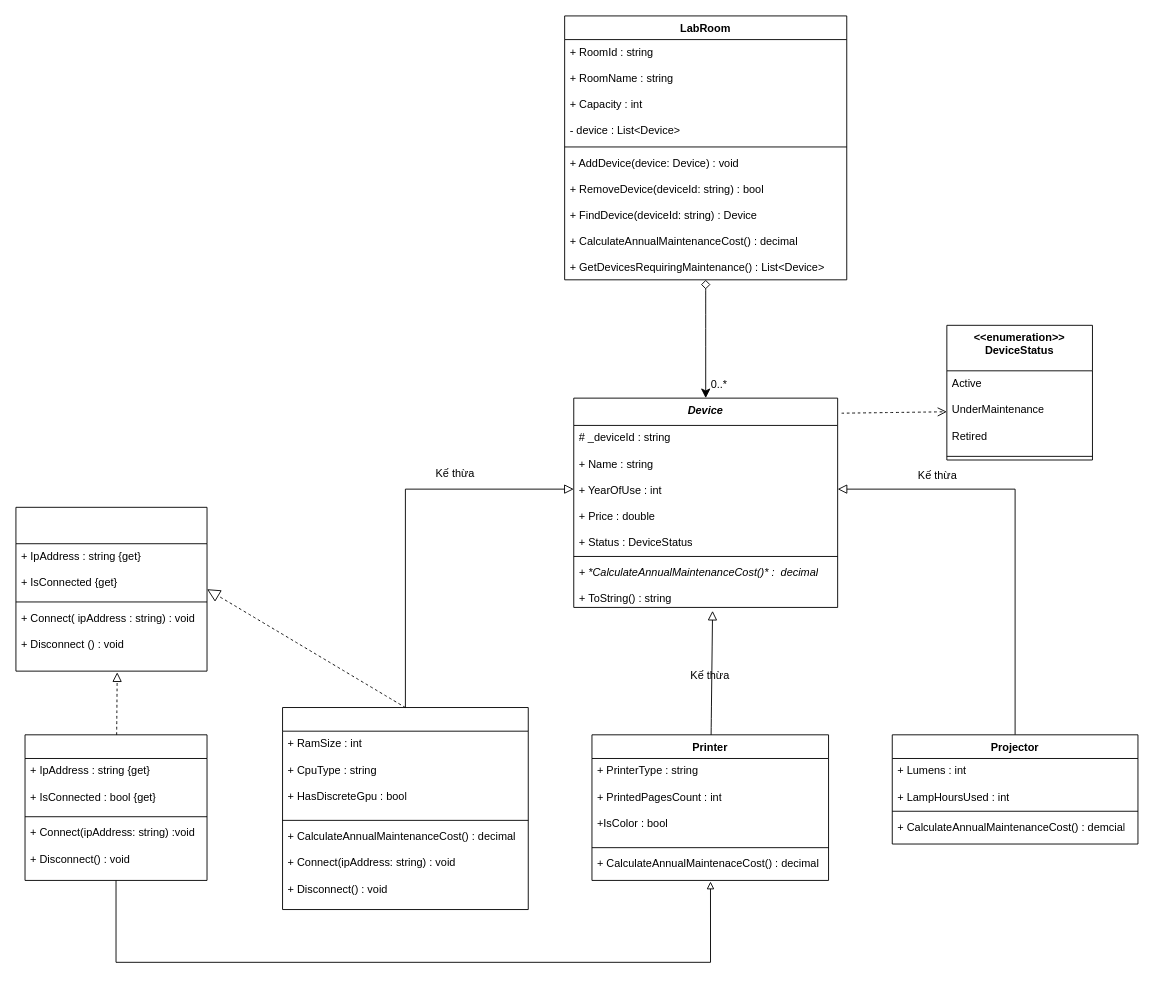
Image size: 1154x986. Some labels were removed from this diagram. Here are the shapes that lost their labels. From the top down, the box of each, then its label:
(15, 506, 207, 671): <<interface>> INetworkable
(24, 734, 207, 880): NetworkPrinter
(282, 707, 528, 910): Computer
